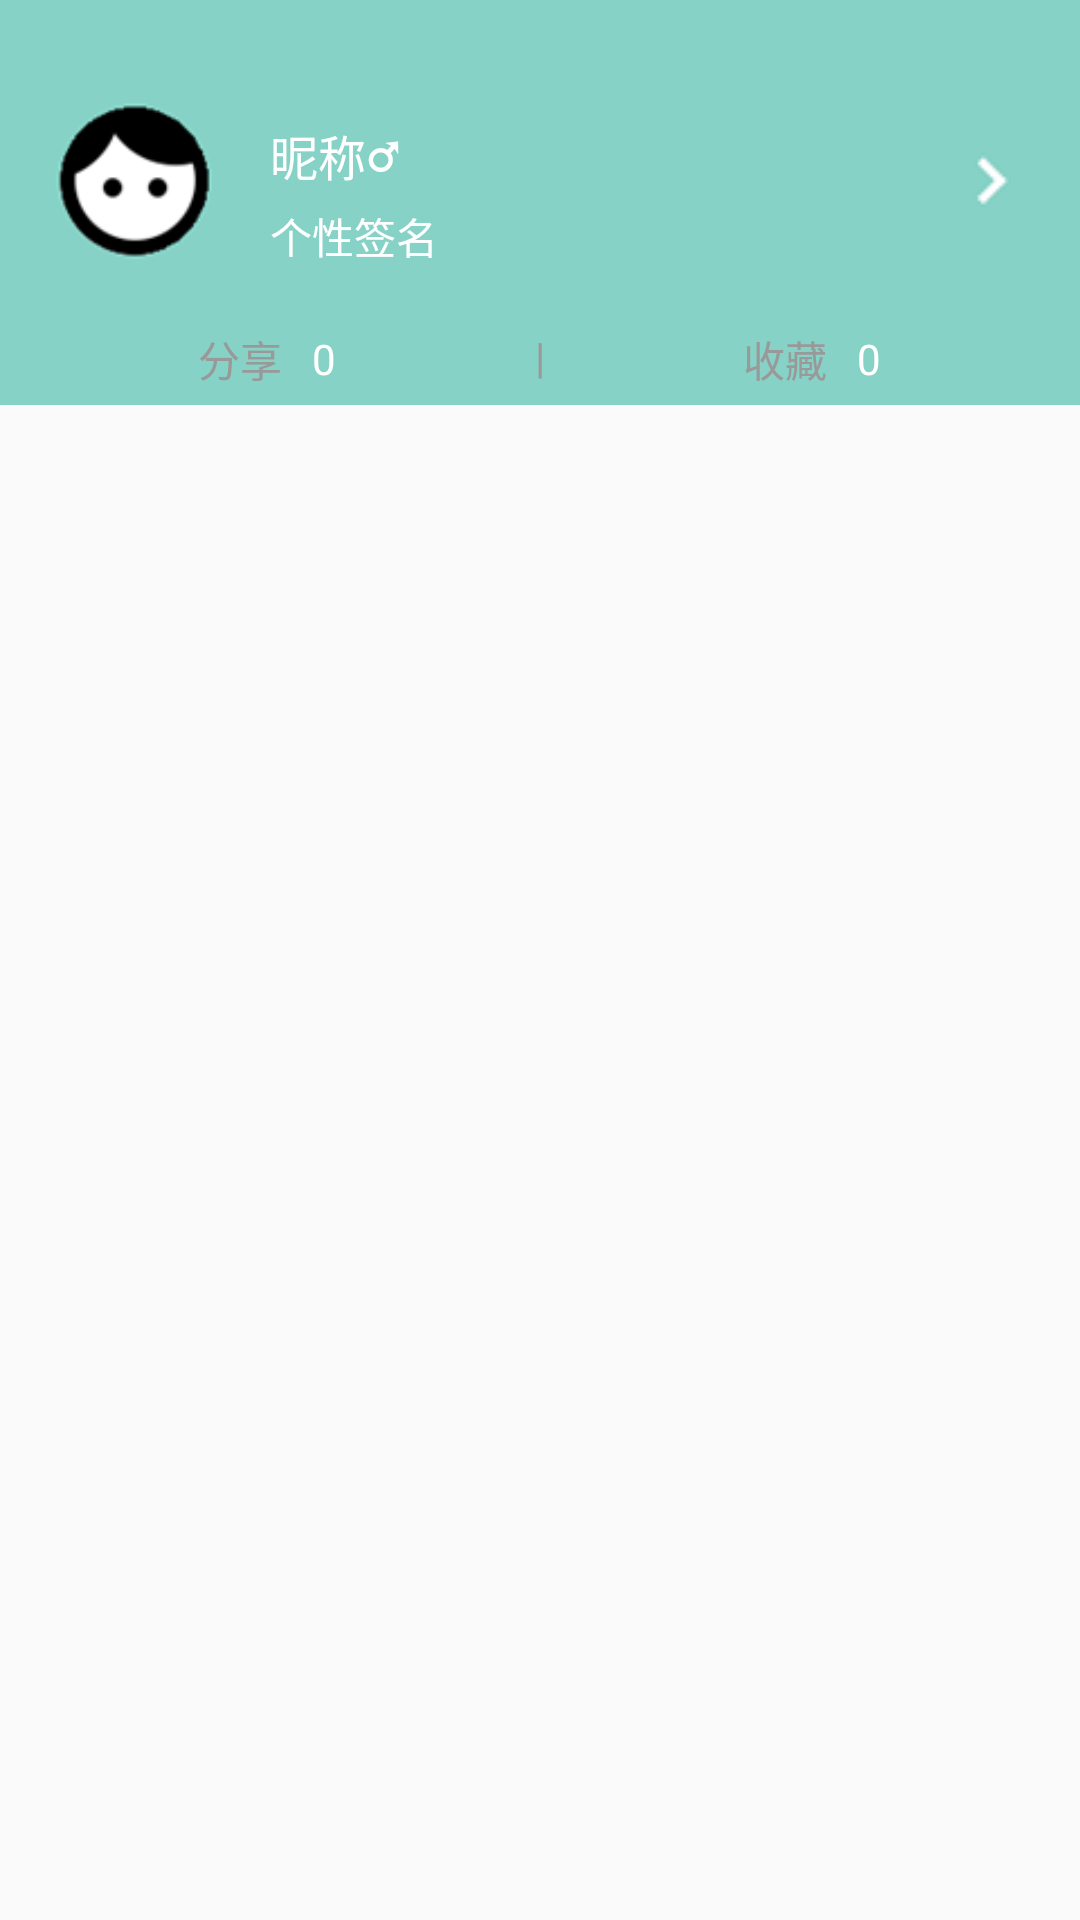

Icons on this 1080px×1920px Android screen, each with the point to tap as (x,y):
head: (134,181)
